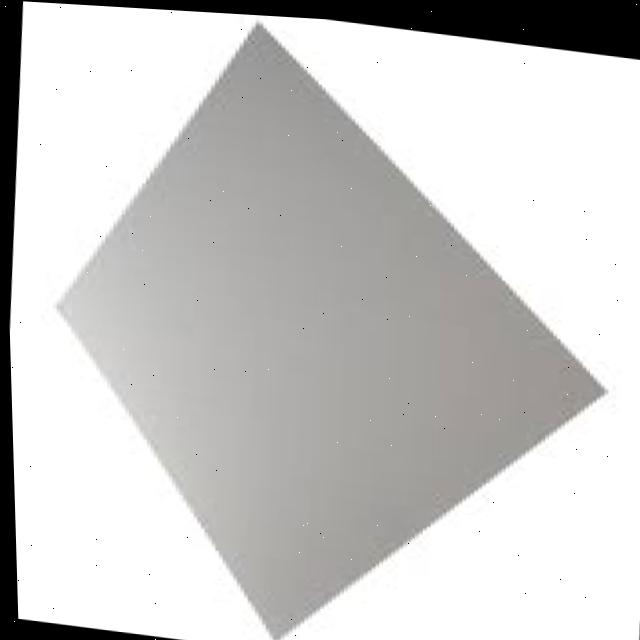Dry: (57, 23, 605, 638)
